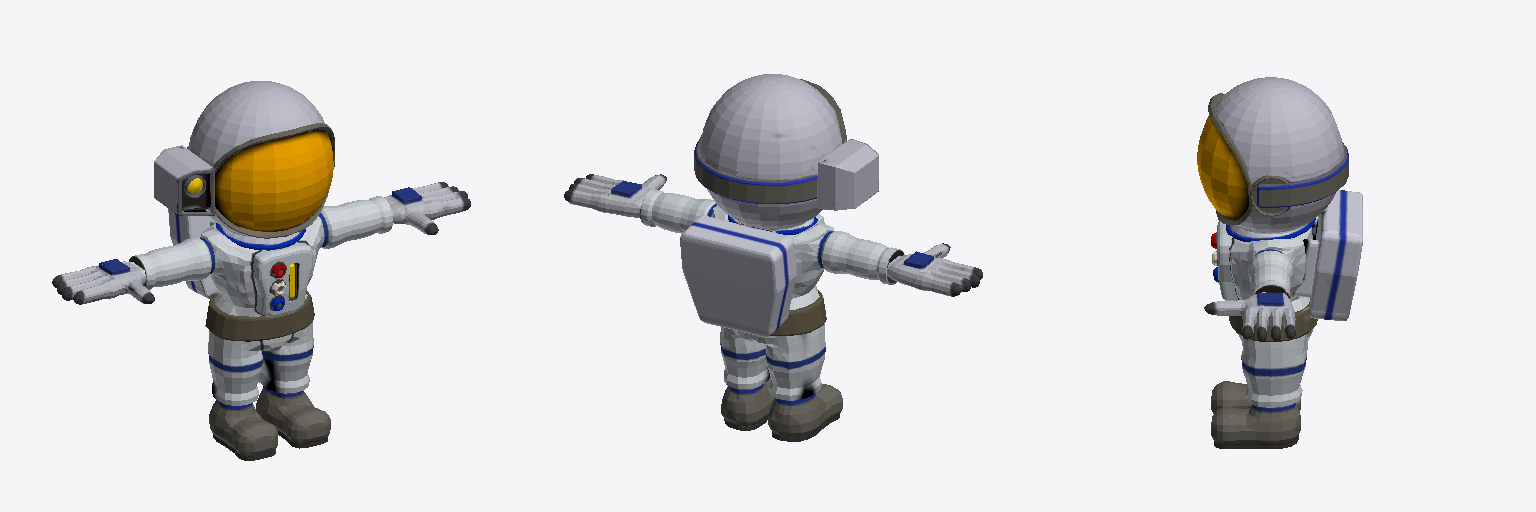
3 renders of one model, left to right at view 1: azimuth 30°, elevation 25°; view 2: azimuth 150°, elevation 25°; view 3: azimuth 270°, elevation 25°, orthographic.
Parts seen in each view (by area): view 1: pCylinder14, polySurface7; view 2: pCylinder14, polySurface7; view 3: pCylinder14, polySurface7.
Boxes of the visible parts, <box> form: pCylinder14: <box>154,81,334,341</box>; polySurface7: <box>52,182,470,460</box>; pCylinder14: <box>680,74,878,337</box>; polySurface7: <box>564,174,982,441</box>; pCylinder14: <box>1197,77,1362,341</box>; polySurface7: <box>1204,227,1313,448</box>.
Size of the model in its own units: 10.91 by 8.86 by 3.87.
2 materials, 2 textured.